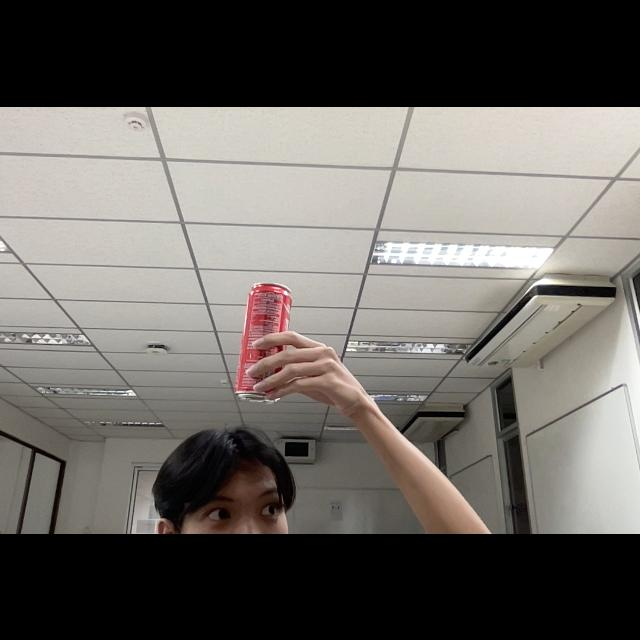plastic_bottle: (236, 279, 294, 406)
